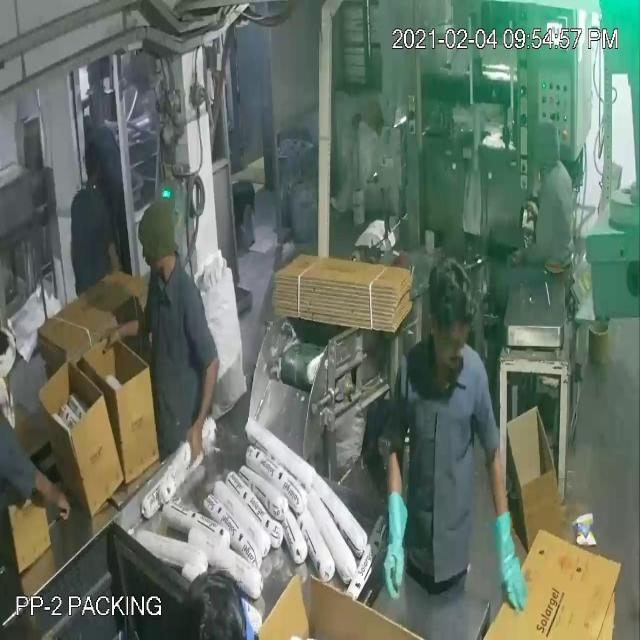No_Gloves: (38, 78, 511, 558)
